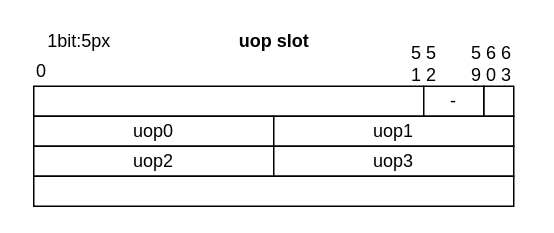
The diagram is 554 pixels wide and 233 high, and some of its shapes have lost their labels. Here are the shapes that lost their labels. From the top down, the centre of each, then its label:
At pixel 228 100: "tag".
At pixel 498 100: "npc".
At pixel 273 190: "imm".
